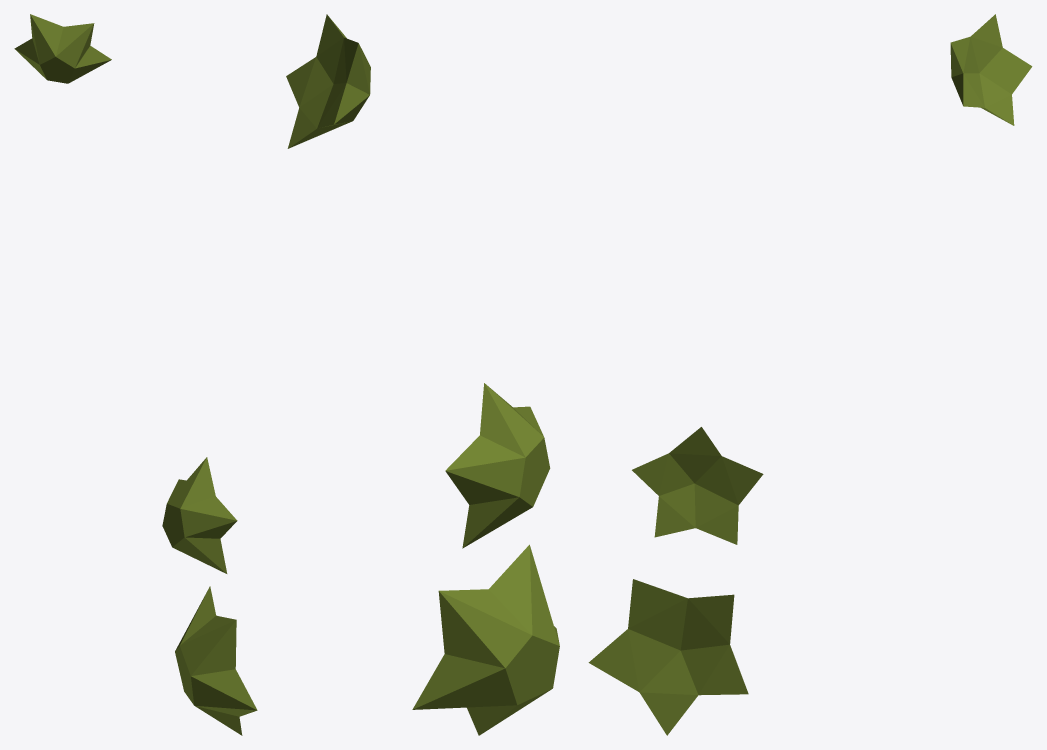
3 renders of one model, left to right at view 1: azimuth 30°, elevation 25°; view 2: azimuth 150°, elevation 25°; view 3: azimuth 270°, elevation 25°, orthographic. The views are drawn at different scales.
Visible parts, largest first — view 1: Box15979_green2_0, Box15982_green2_0, Box15996_green2_0; view 2: Box15979_green2_0, Box15982_green2_0, Box15996_green2_0; view 3: Box15979_green2_0, Box15982_green2_0, Box15996_green2_0.
Boxes of the visible parts, x1,y1,x2,y2 form: Box15979_green2_0: [175, 586, 257, 735]; Box15982_green2_0: [162, 457, 237, 573]; Box15996_green2_0: [14, 14, 111, 83]; Box15979_green2_0: [412, 544, 559, 735]; Box15982_green2_0: [445, 383, 550, 548]; Box15996_green2_0: [286, 14, 370, 148]; Box15979_green2_0: [588, 579, 748, 735]; Box15982_green2_0: [632, 427, 763, 544]; Box15996_green2_0: [950, 14, 1032, 125].
Size of the model in its own units: 70.22 by 572 by 334.
